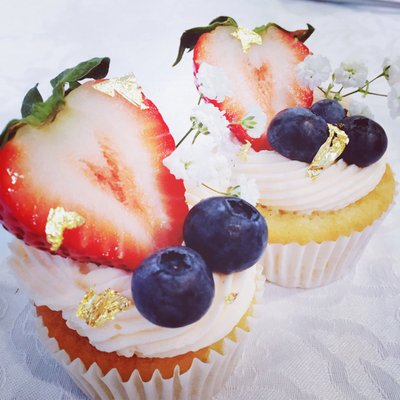sushi: (160, 17, 398, 283)
